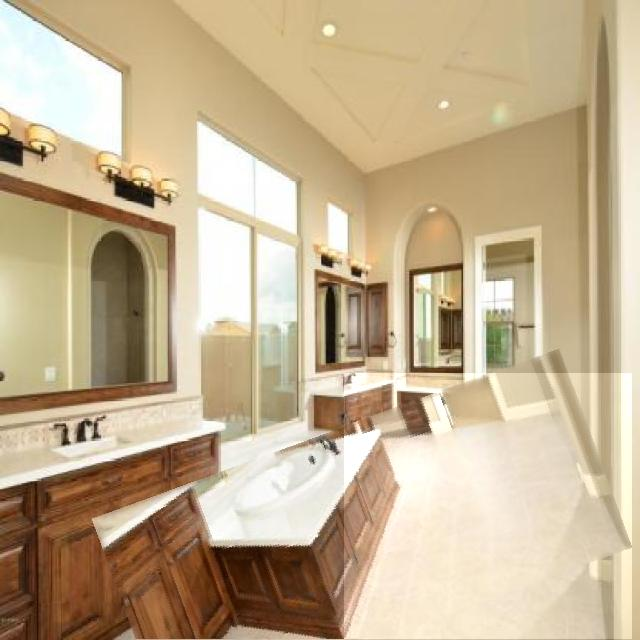floor: (345, 374, 632, 639), (220, 621, 339, 640)
